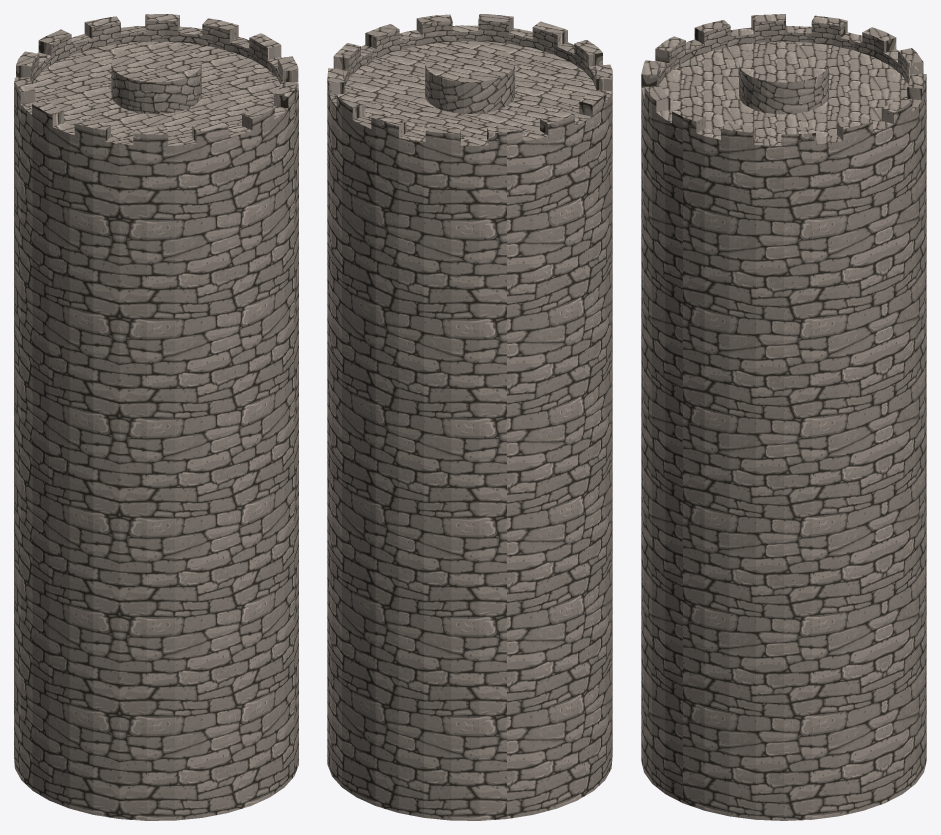
The model's file is tower_simple.glb.
The picture shows the model from 3 angles, left to right: view 1: azimuth 30°, elevation 25°; view 2: azimuth 150°, elevation 25°; view 3: azimuth 270°, elevation 25°; orthographic projection.
Parts seen in each view (by area): view 1: tower; view 2: tower; view 3: tower.
Part boxes in pixels (x1=…): tower: x1=14, y1=14, x2=298, y2=820; tower: x1=327, y1=14, x2=612, y2=820; tower: x1=641, y1=14, x2=926, y2=820.
Size of the model in its own units: 1.95 by 5.24 by 1.95.
Materials: 1 (1 with a texture image).
